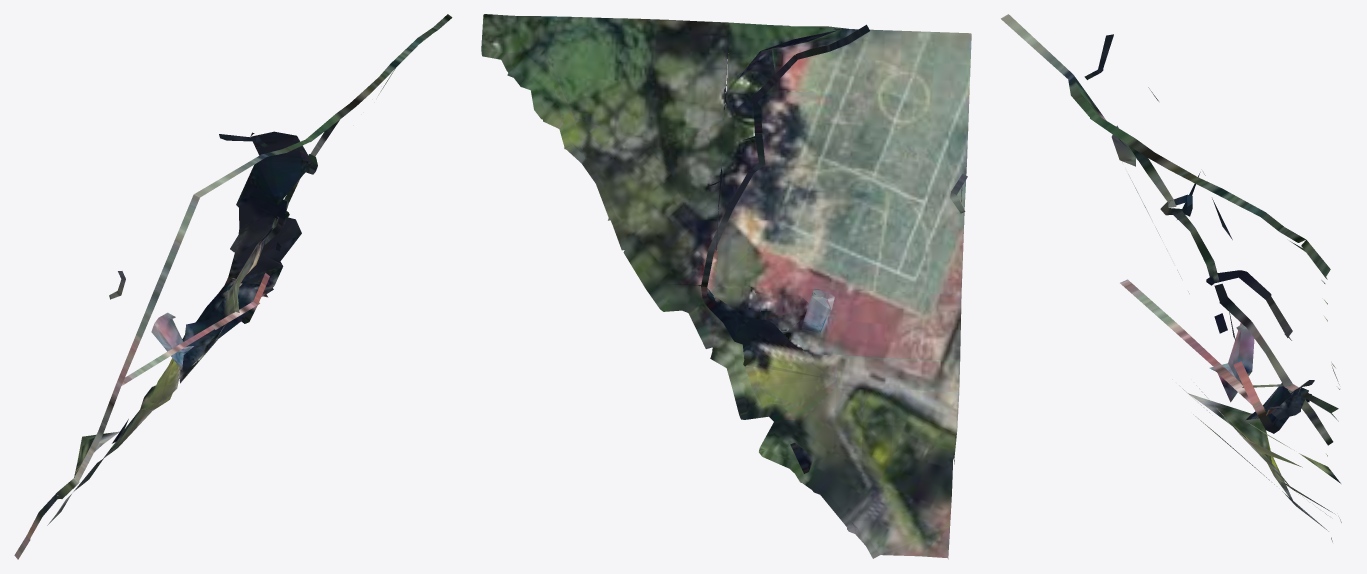
File: AJVsH2yJFfDXpTHK6k3CbN_jtgqER8WXdYl0fx5wVkXgoq_6wj3oXBTCK4ImA8fpC7ncR7OWrNXMSBp4W2g_nxS9xw5LG_jTuteLyyq046EEN-lP_ZtOEzOvMW7KuEL0F36KCs_1hAd3yxEgfe3SVBAft3qI.glb
The picture shows the model from 3 angles, left to right: view 1: azimuth 30°, elevation 25°; view 2: azimuth 150°, elevation 25°; view 3: azimuth 270°, elevation 25°; orthographic projection. The views are drawn at different scales.
Size of the model in its own units: 38.37 by 36.27 by 19.48.
Materials: 1 (1 with a texture image).
